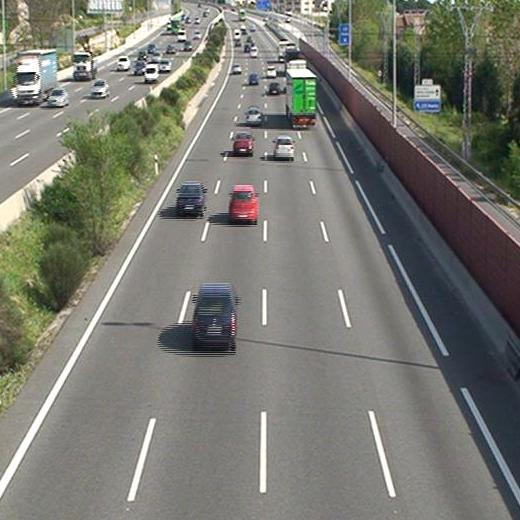car: (193, 283, 238, 345), (229, 185, 259, 221), (176, 181, 205, 213), (273, 135, 295, 159), (232, 132, 254, 155), (246, 108, 263, 124), (268, 81, 281, 95), (249, 72, 260, 85), (265, 66, 276, 77), (232, 63, 242, 74)
truck: (285, 69, 318, 128)
